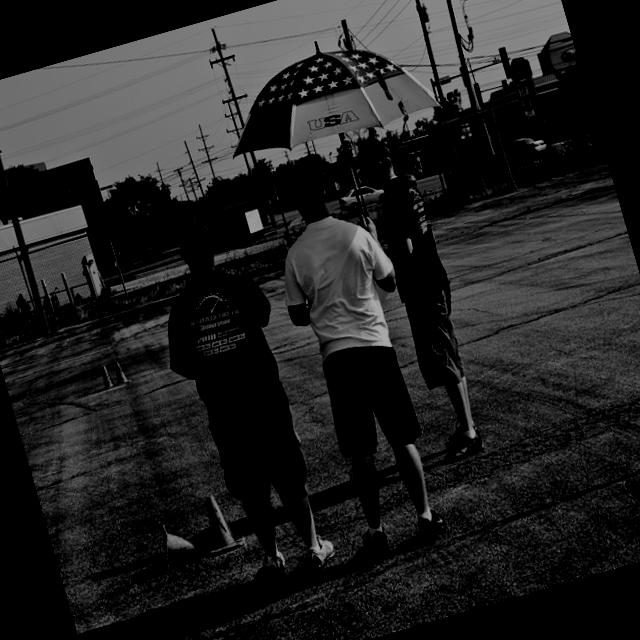Vehicle: (337, 180, 388, 214), (502, 130, 548, 162), (394, 167, 418, 190)
